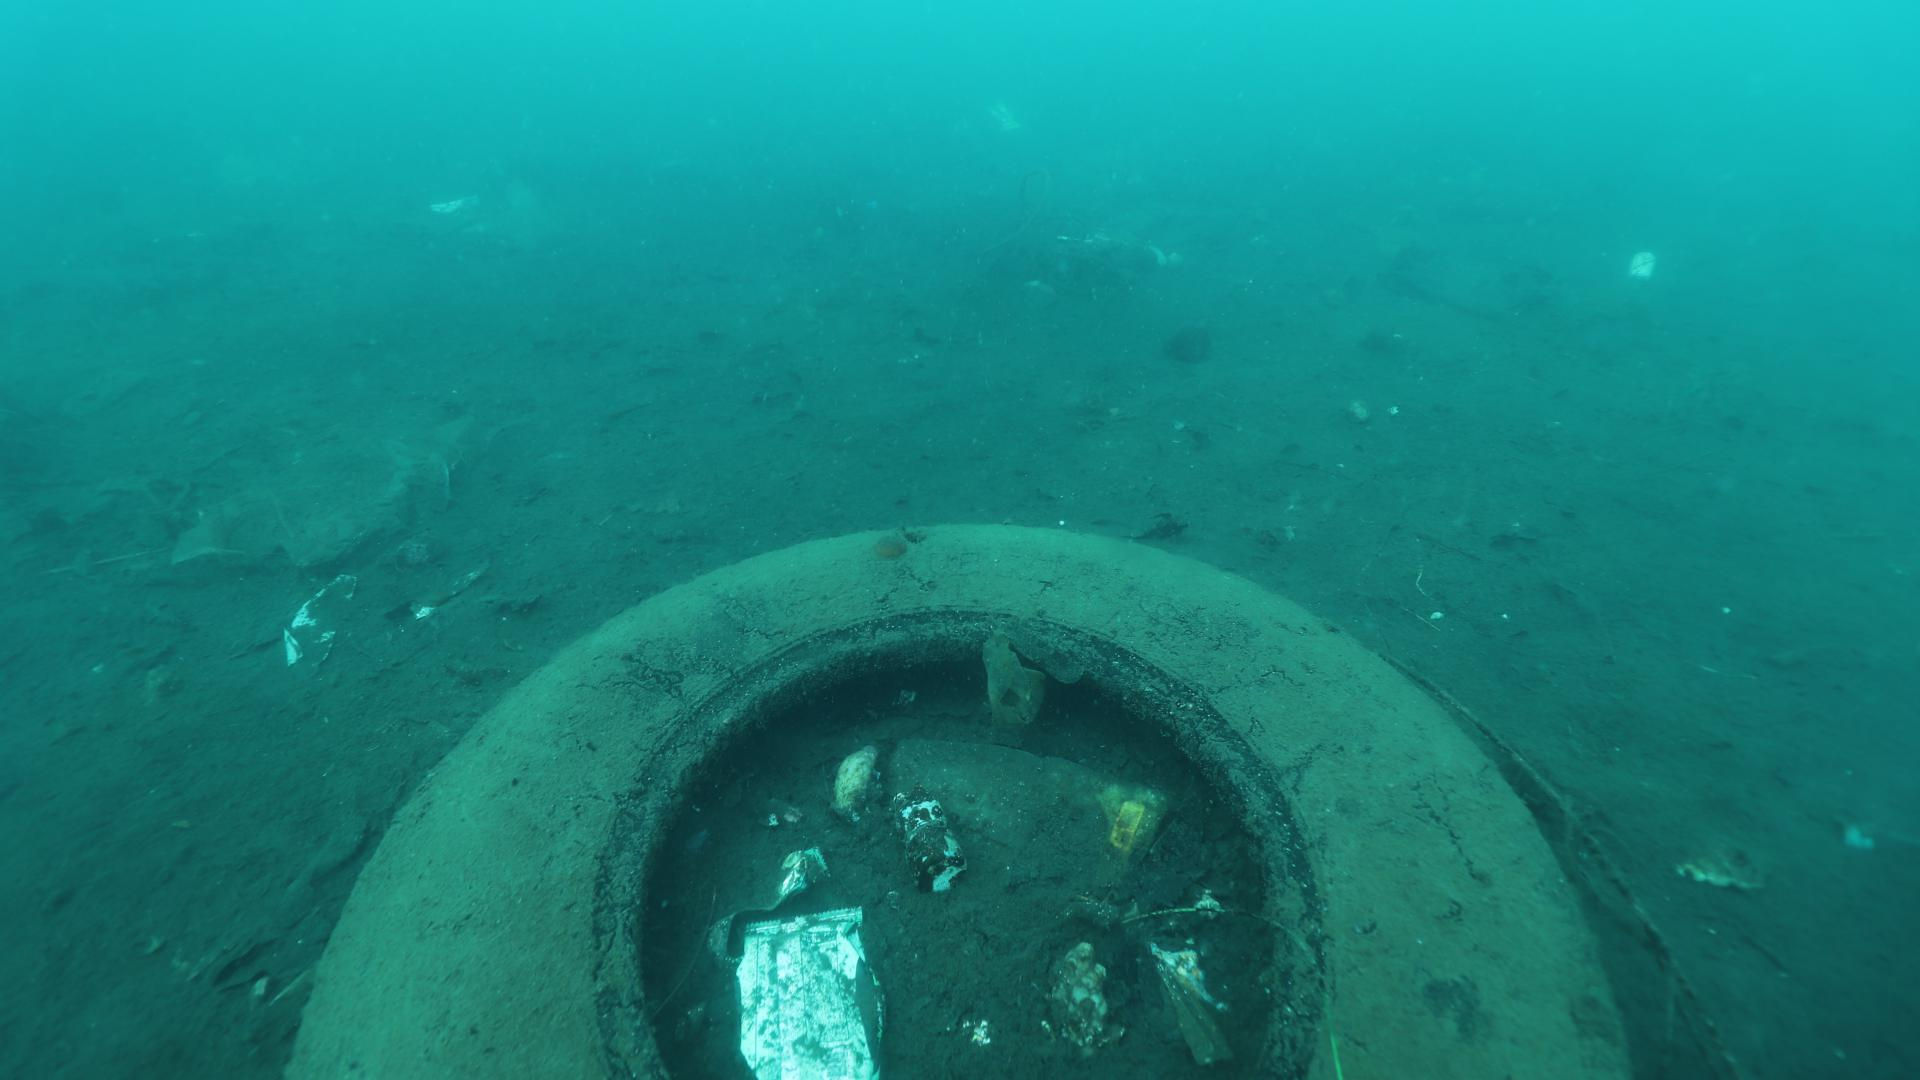tire: (281, 520, 1629, 1080)
